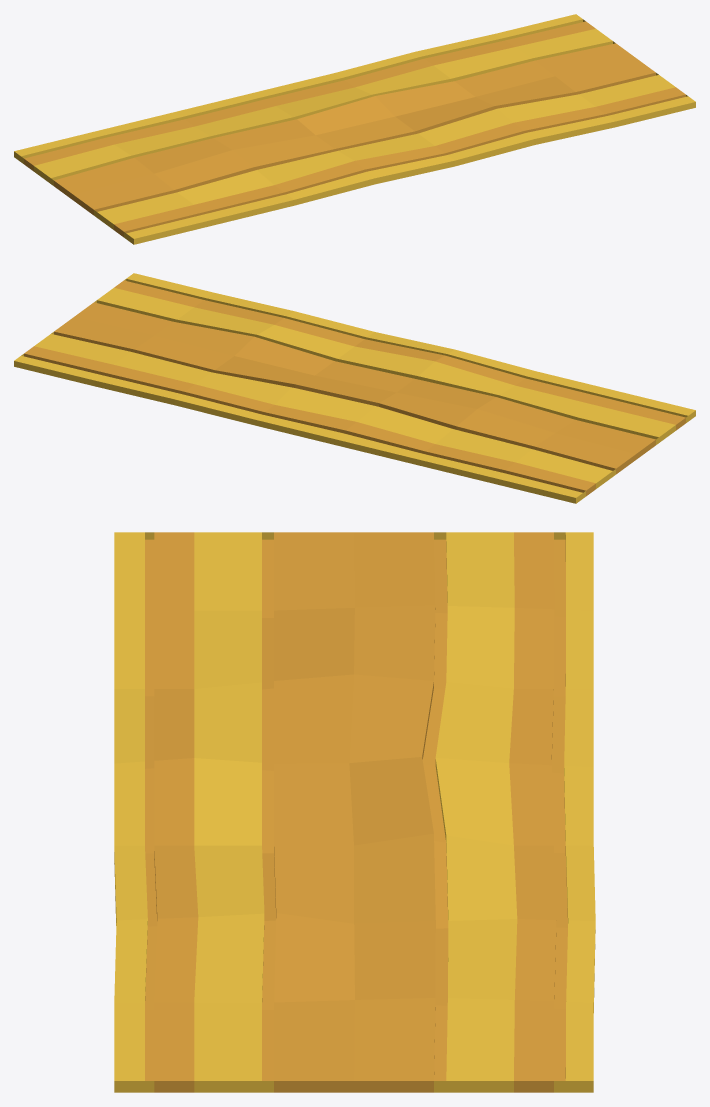
The model's file is LandDryLand.fbx.
3 views of the same model, one above another, from view 1: azimuth 30°, elevation 25°; view 2: azimuth 150°, elevation 25°; view 3: azimuth 270°, elevation 25° (orthographic). The views are drawn at different scales.
Visible parts, largest first — view 1: Land.002; view 2: Land.002; view 3: Land.002.
Part boxes in pixels (x1,y1,x2,y2): Land.002: (14, 14, 695, 244); Land.002: (14, 273, 695, 503); Land.002: (114, 532, 595, 1092).
Bounding box in the file's own units: 4000 × 83.24 × 1483.
